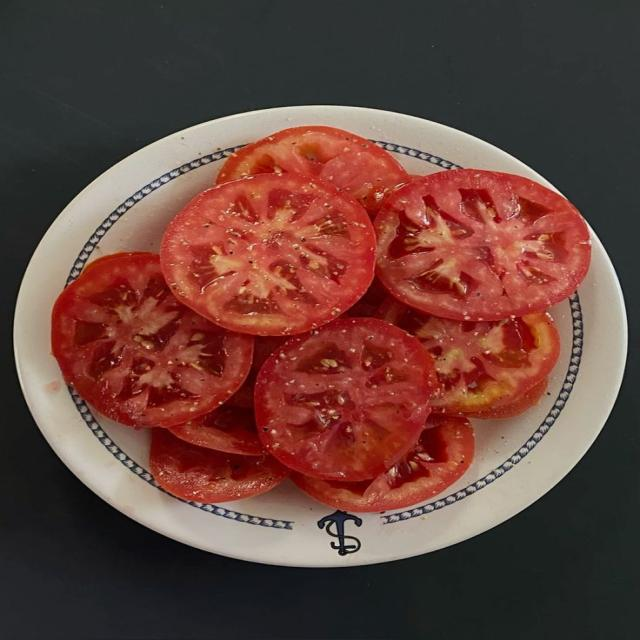sliced tomatoe: (160, 173, 374, 335), (53, 253, 253, 426), (375, 169, 590, 320), (255, 318, 433, 480), (379, 299, 559, 412), (292, 415, 474, 512), (217, 126, 407, 213), (150, 429, 289, 502), (171, 399, 265, 455), (229, 336, 286, 407), (466, 379, 547, 419), (347, 278, 388, 317)
